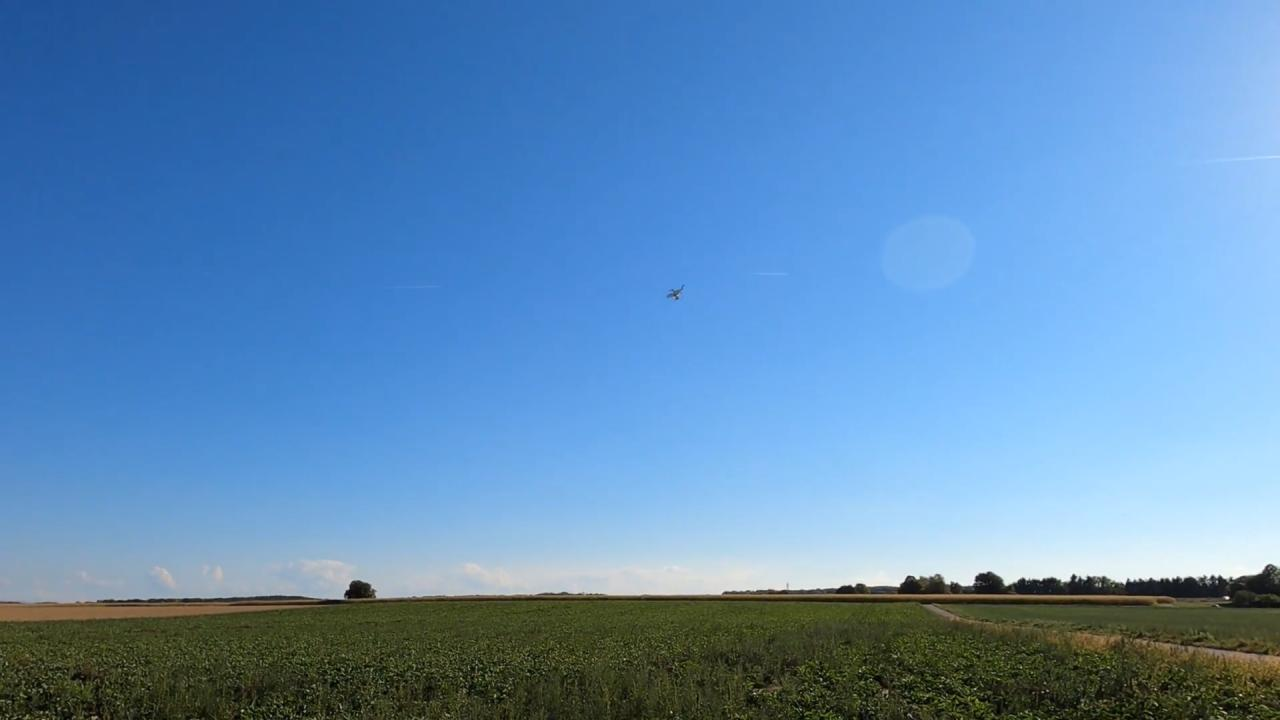Drone: (658, 279, 692, 308)
